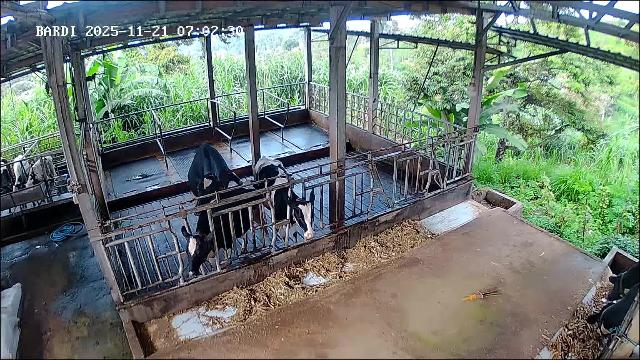mounting: (187, 142, 245, 215)
